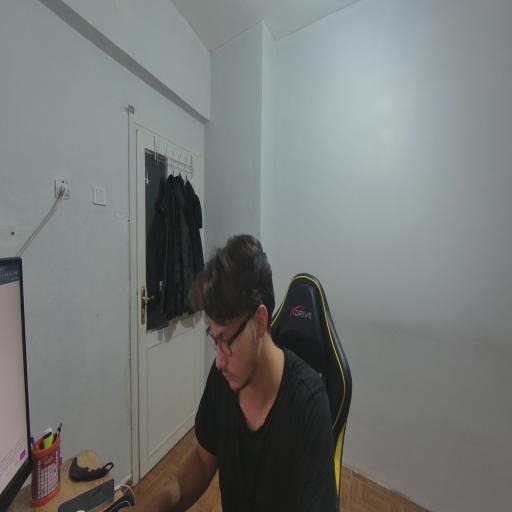cuma-face-v2: (204, 226, 275, 390)
